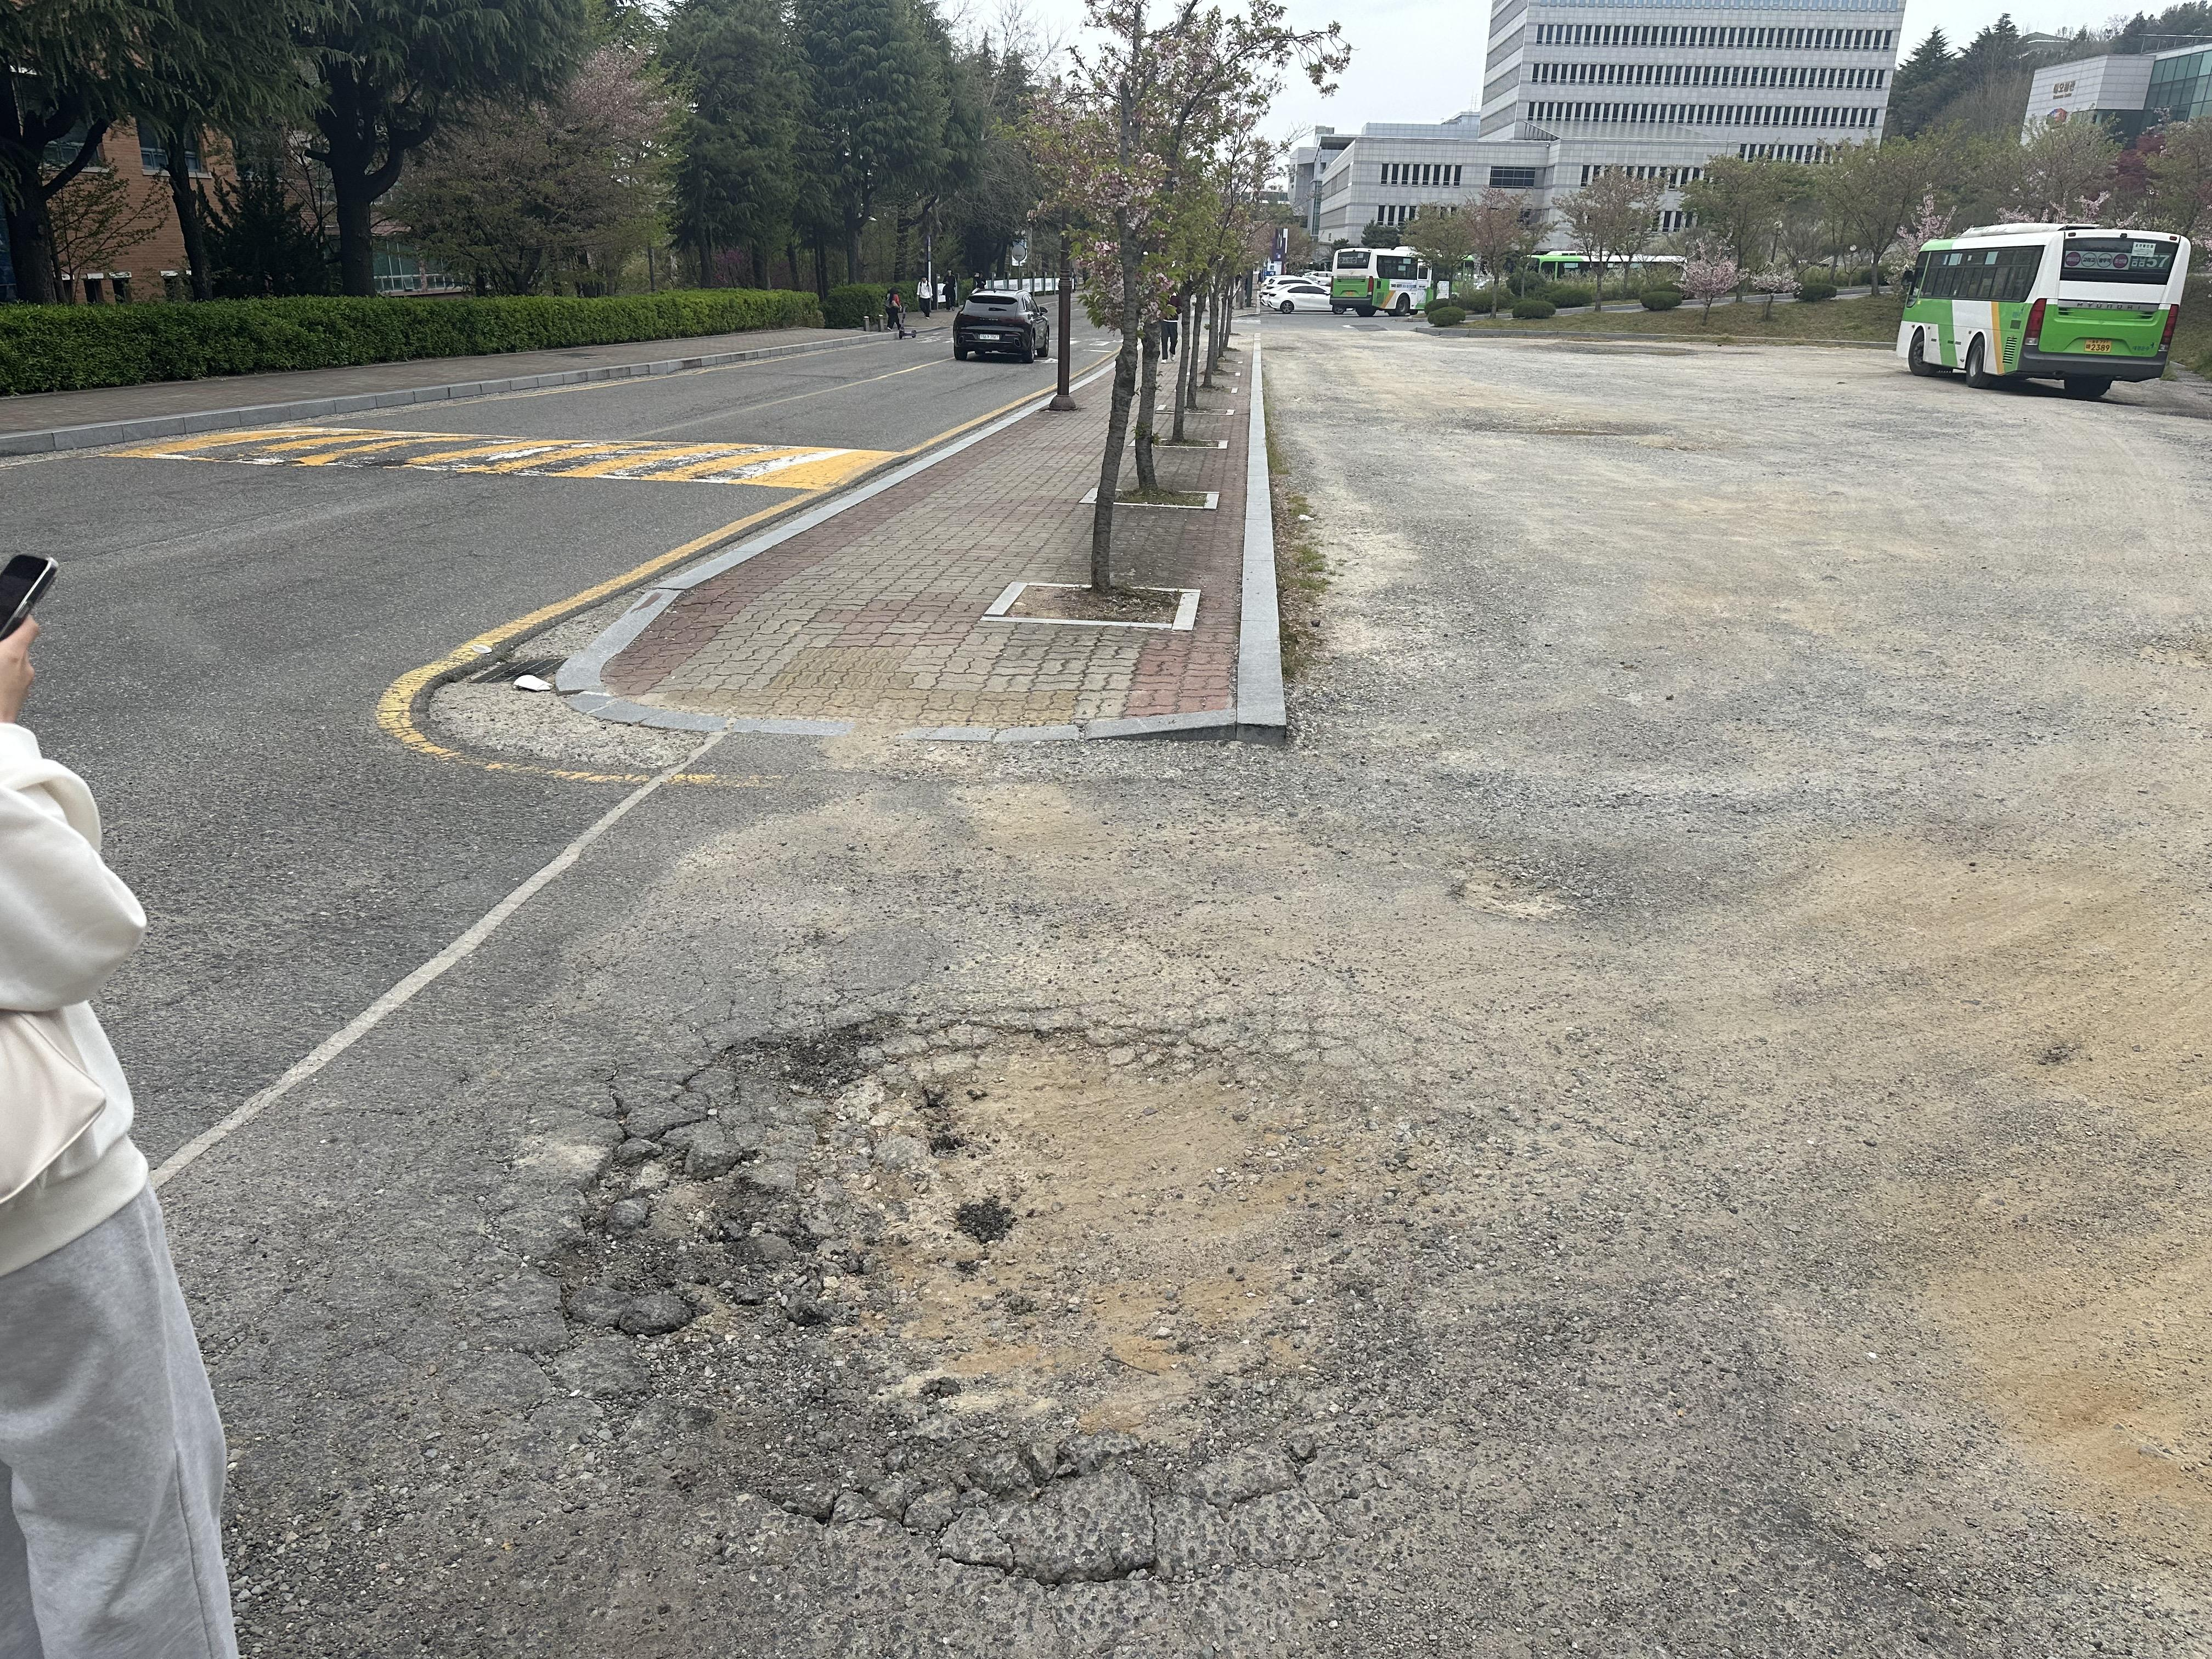pothole: (611, 993, 1407, 1558)
